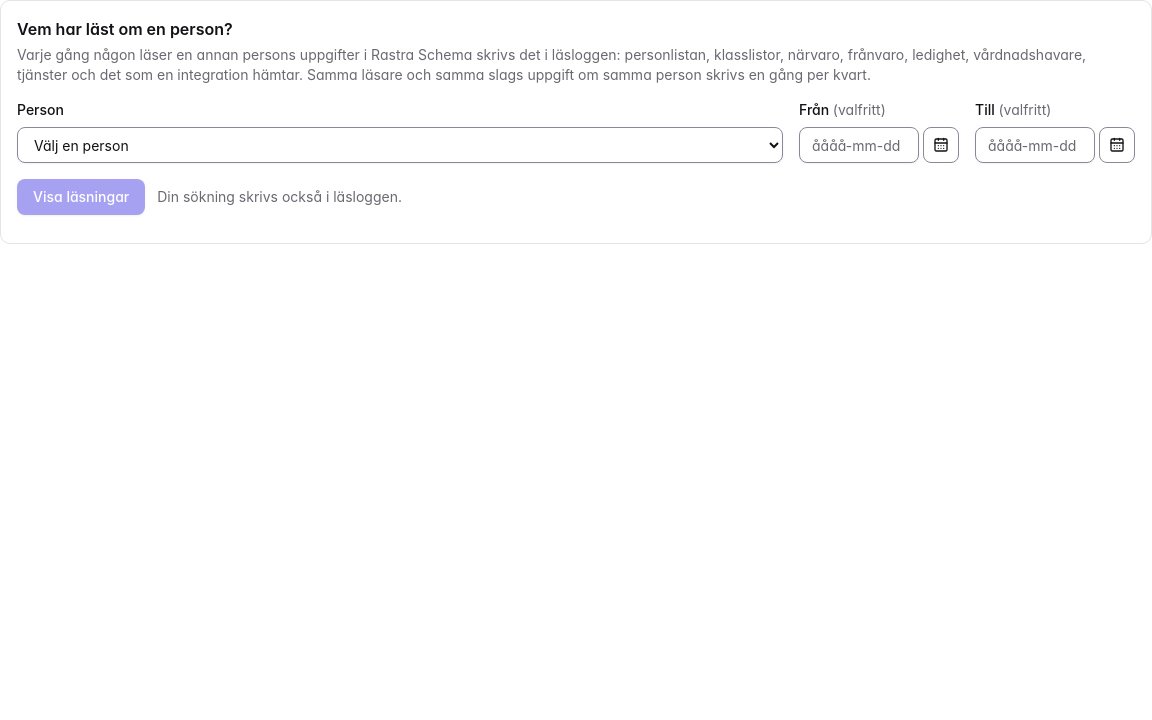
Test: Vem har läst om en person? › says when nobody has read about the person, and when the answer was cut
The width and height of the screenshot is (1152, 720).
Select "Ek, Ada" in the dropdown labelled "Person" at (400, 145), box x1=17 y1=127 x2=783 y2=163
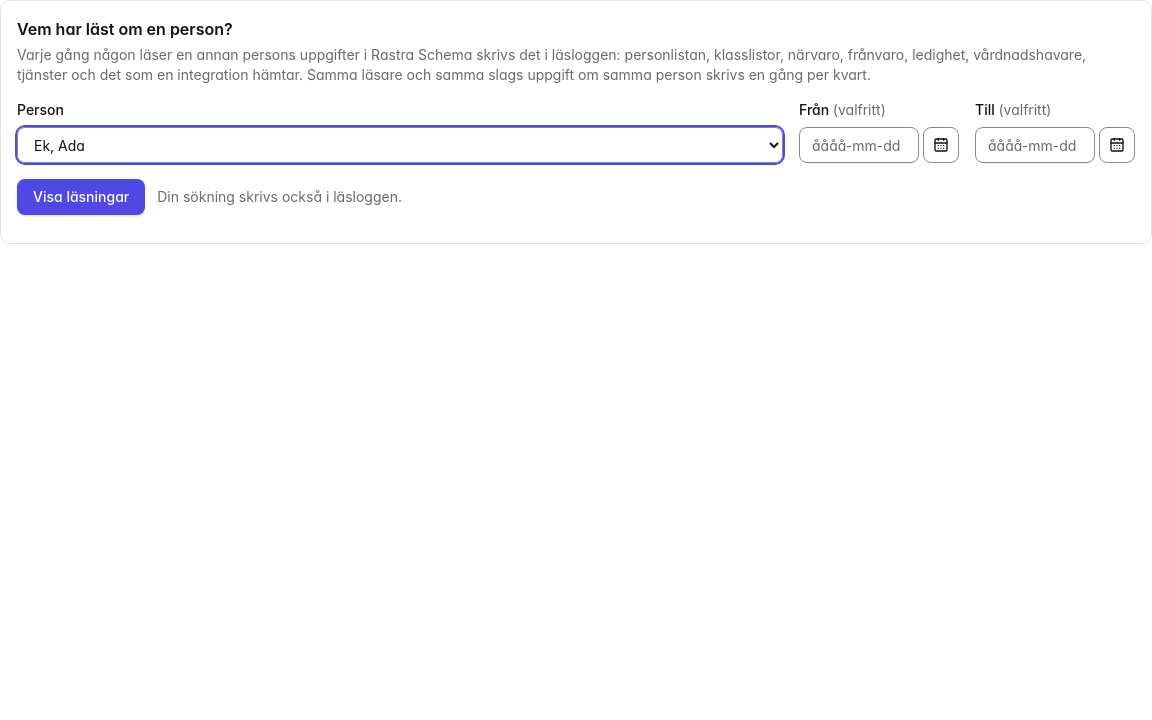
Click the button "Visa läsningar".
click(81, 197)  # box x1=17 y1=179 x2=145 y2=215
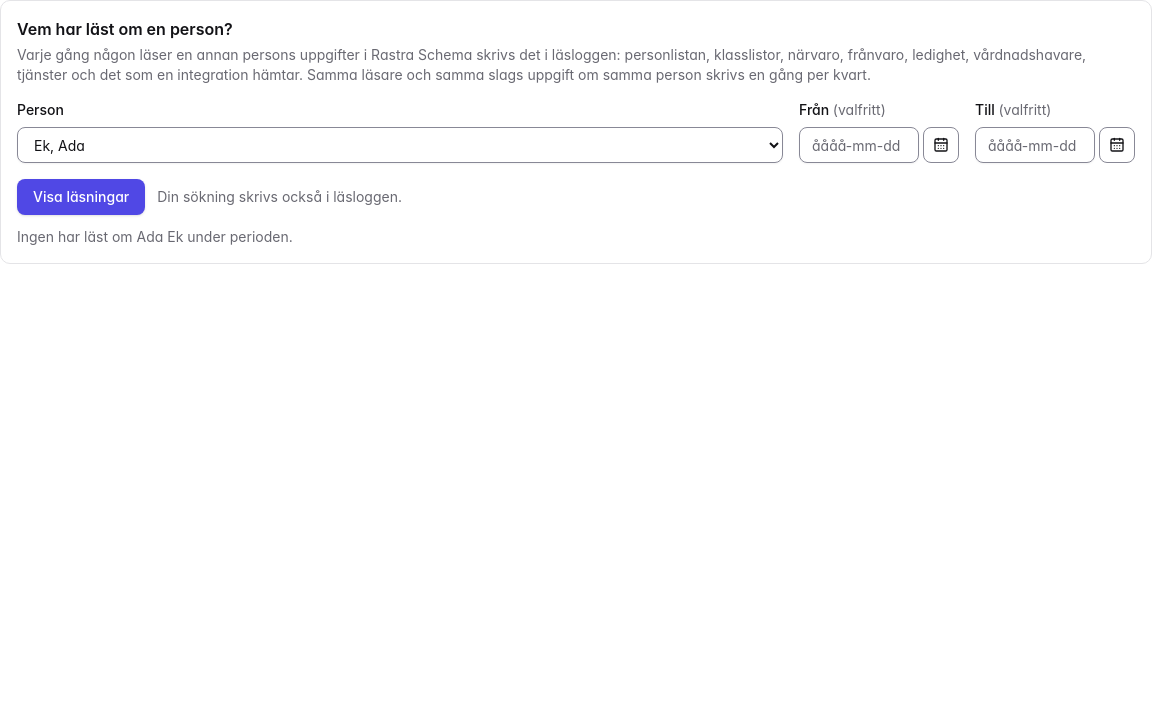
Expected: the text "Ingen har läst om Ada Ek under perioden." is shown, x1=17 y1=228 x2=293 y2=245
Type "2026-10-13" into the field labelled "Till (valfritt)".
click(1035, 145); type("2026-10-13")  # box x1=975 y1=127 x2=1095 y2=163
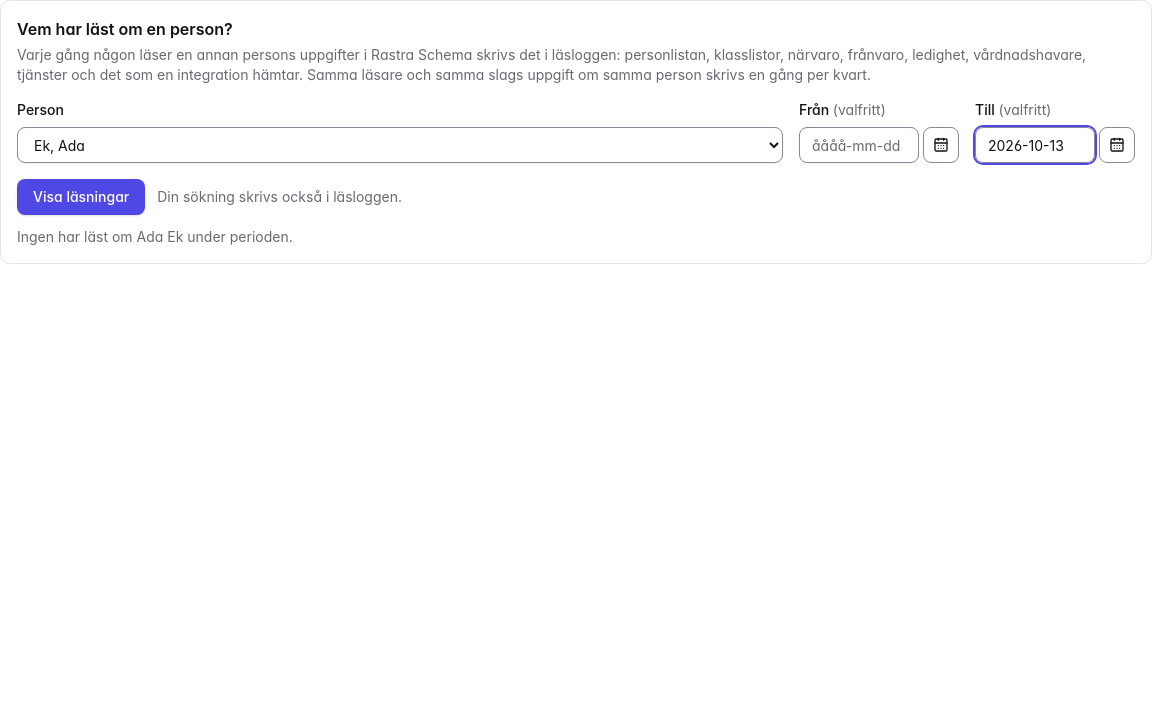
Click the button "Visa läsningar".
click(81, 197)  # box x1=17 y1=179 x2=145 y2=215
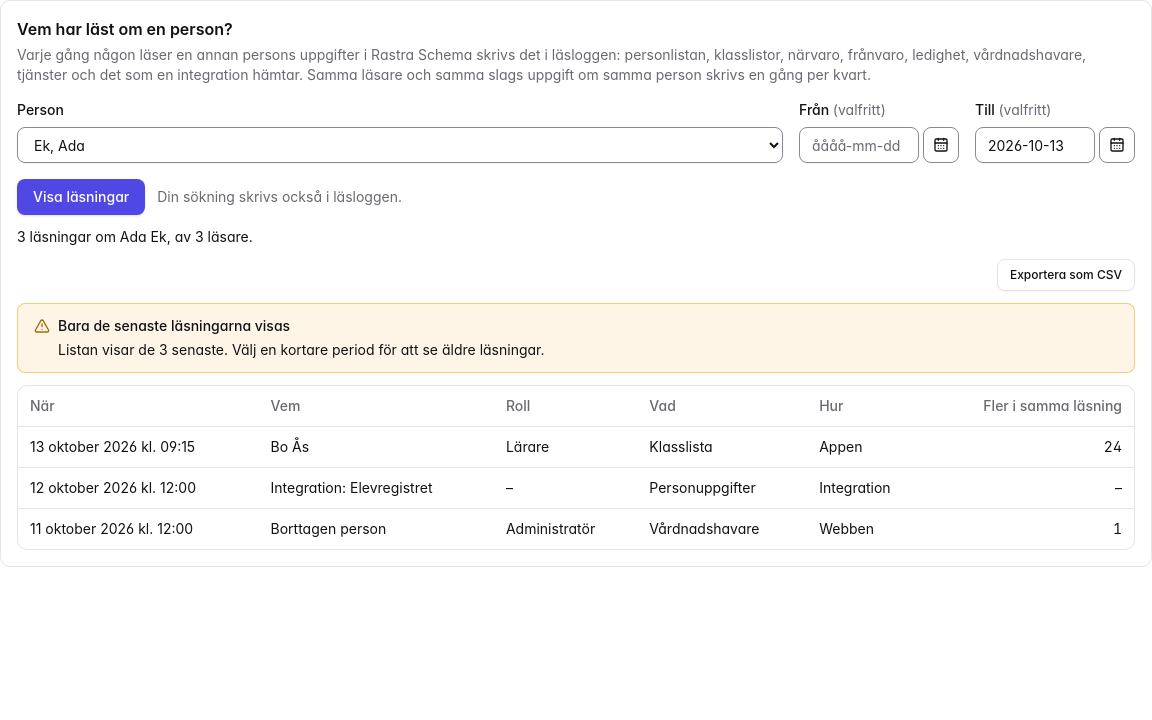
Expected: the text "Bara de senaste läsningarna visas" is shown, x1=58 y1=317 x2=290 y2=334
